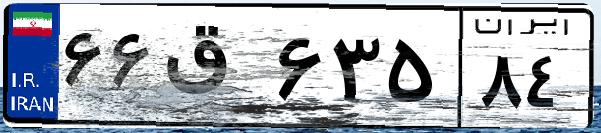3: (330, 28, 385, 110)
4: (525, 38, 570, 115)
5: (385, 28, 445, 110)
6: (270, 28, 330, 110), (57, 26, 110, 100), (110, 28, 158, 98)
8: (475, 38, 525, 113)
ق: (158, 20, 270, 120)
